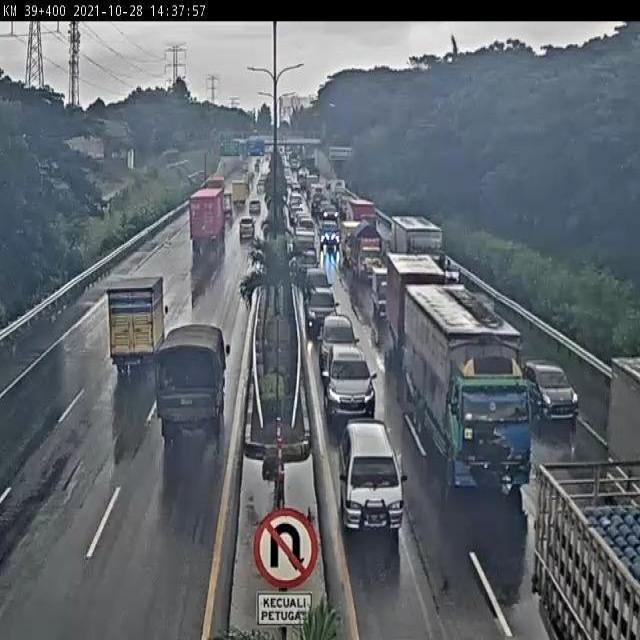car: (527, 359, 576, 421), (318, 220, 343, 251)
truck-l-: (404, 286, 526, 486)
truck-m-: (159, 324, 226, 436), (105, 277, 166, 373)
truck-xl-: (191, 183, 225, 249)
